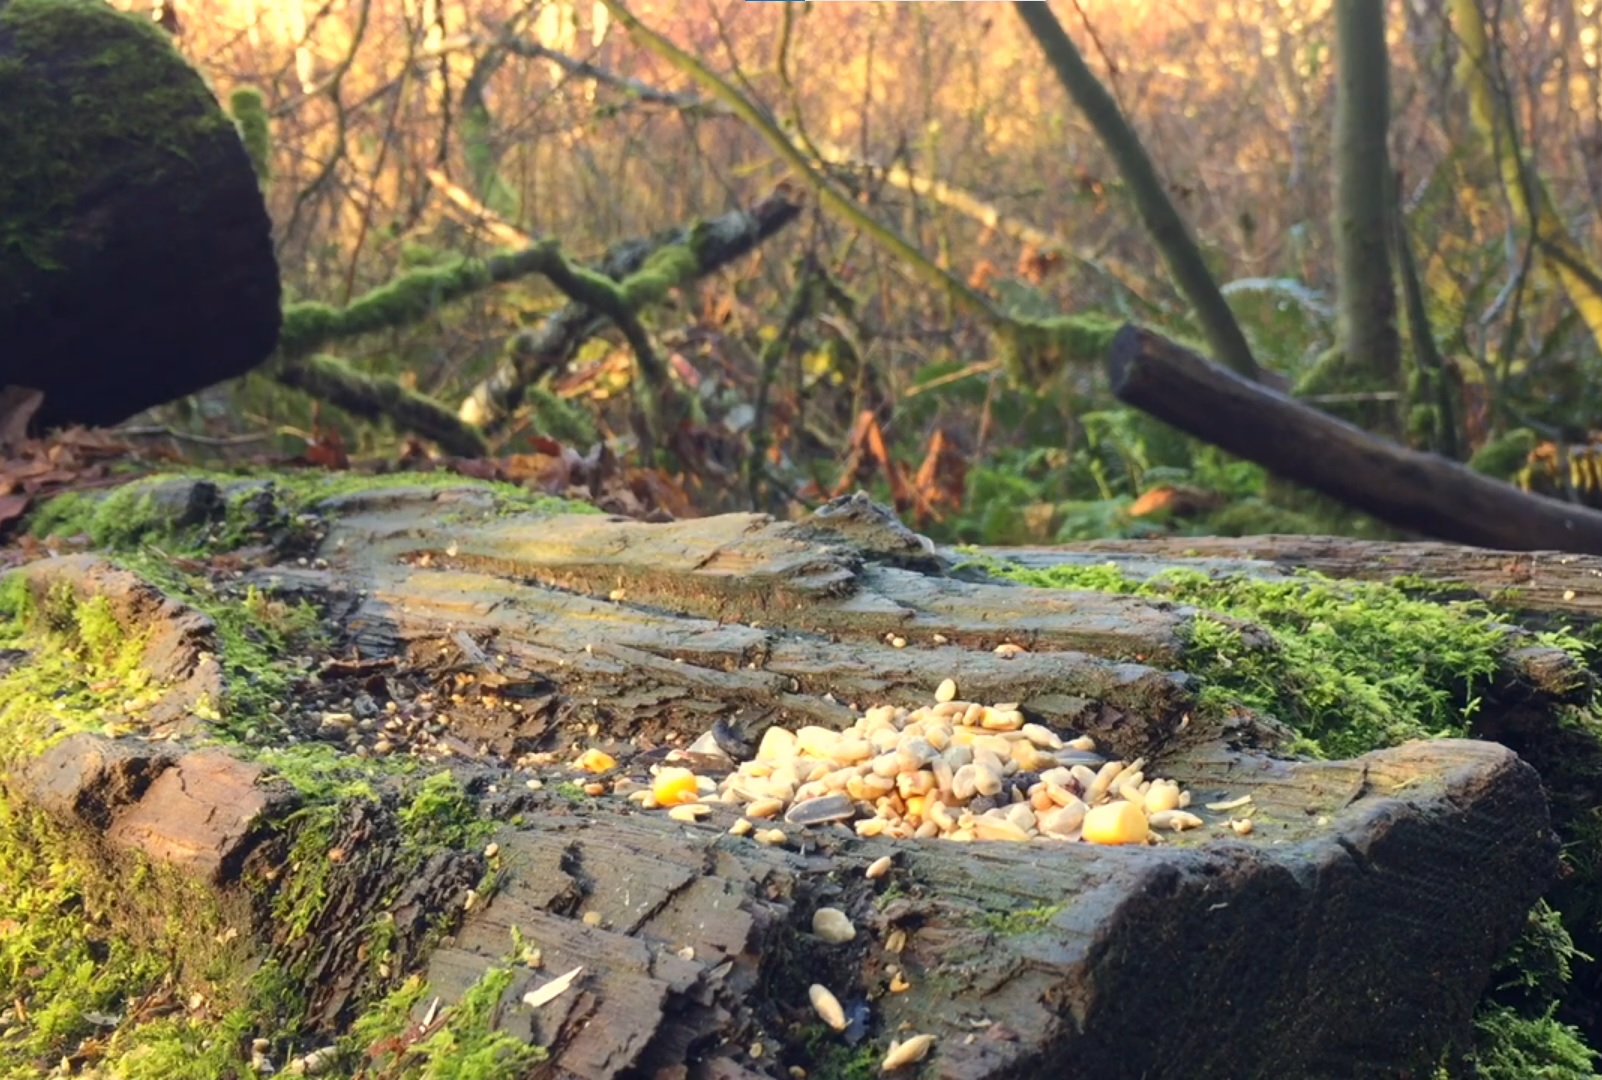seed: (647, 673, 1216, 887)
